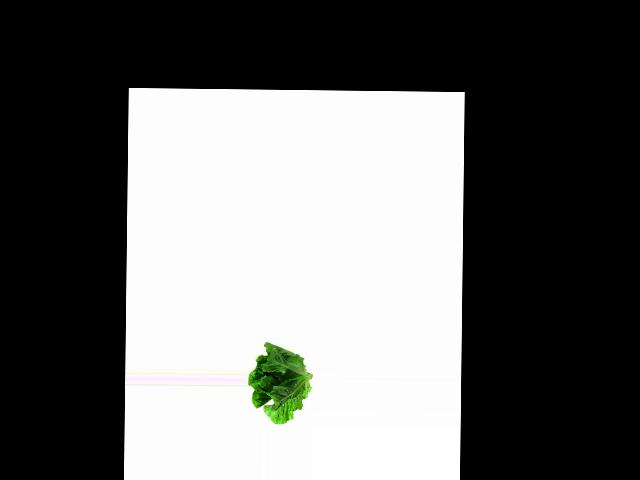lettuce: (248, 340, 309, 423)
